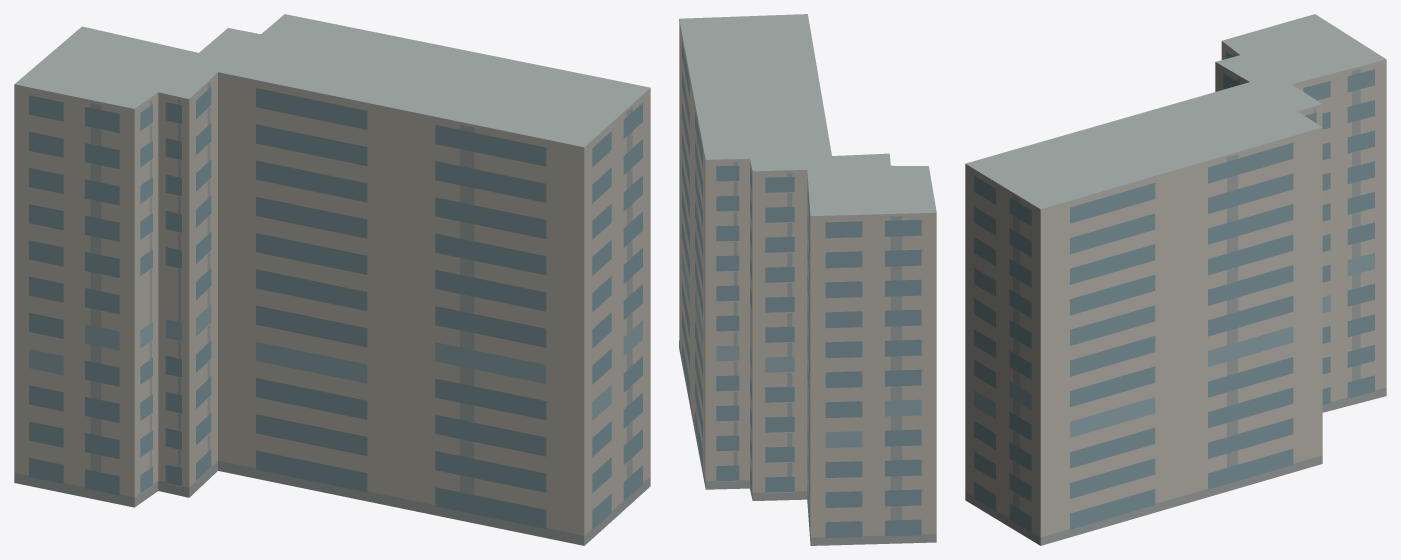
The model's file is survey-upis-32645098.glb.
3 views of the same model, side by side, from view 1: azimuth 30°, elevation 25°; view 2: azimuth 150°, elevation 25°; view 3: azimuth 270°, elevation 25° (orthographic). The views are drawn at different scales.
Parts seen in each view (by area): view 1: survey-upis-32645098.tmp; view 2: survey-upis-32645098.tmp; view 3: survey-upis-32645098.tmp.
Part boxes in pixels (x1=…): survey-upis-32645098.tmp: x1=14, y1=14, x2=650, y2=545; survey-upis-32645098.tmp: x1=679, y1=14, x2=936, y2=545; survey-upis-32645098.tmp: x1=965, y1=14, x2=1386, y2=545.
Size of the model in its own units: 41.75 by 33.55 by 38.08.
